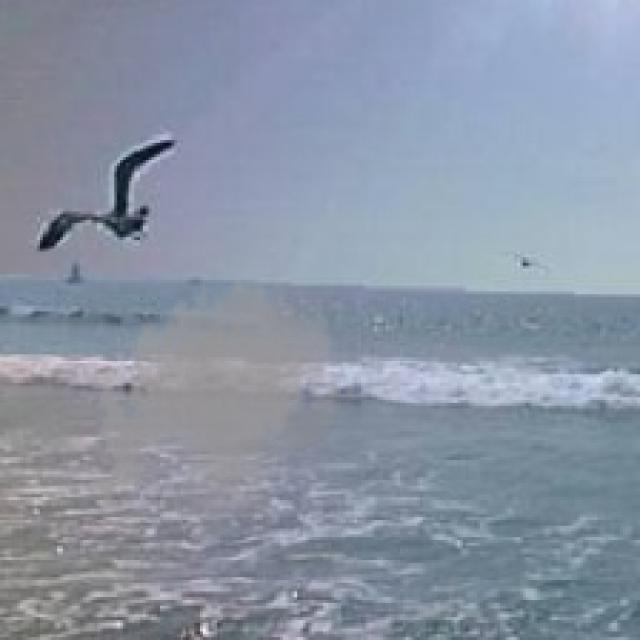smoke: (83, 268, 360, 548)
